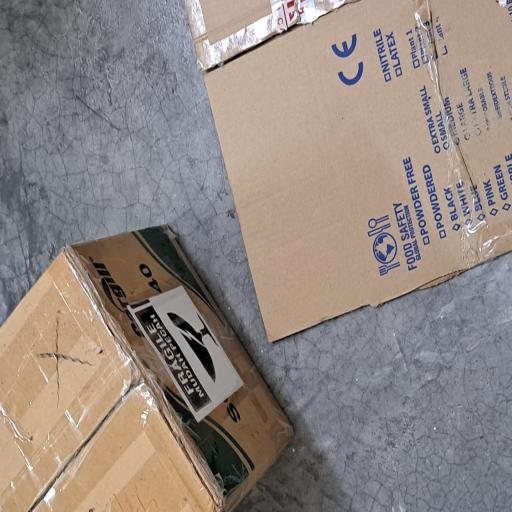cardboard: (0, 0, 214, 390), (126, 245, 384, 512)
